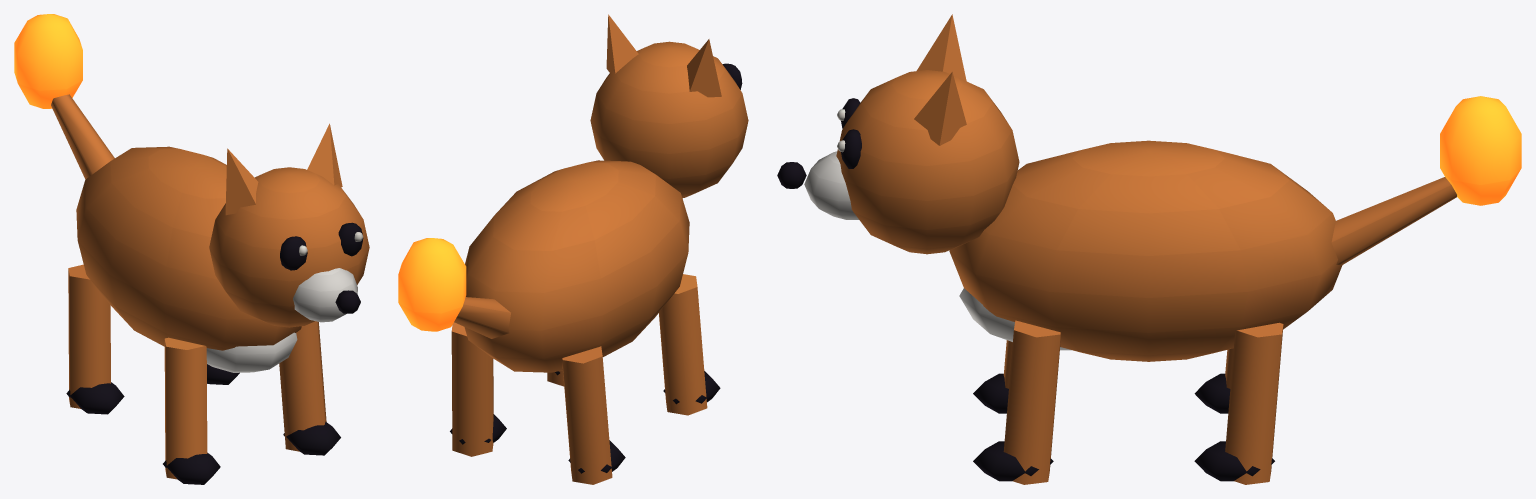
The model's file is monster_ember_fox.glb.
The picture shows the model from 3 angles, left to right: view 1: azimuth 30°, elevation 25°; view 2: azimuth 150°, elevation 25°; view 3: azimuth 270°, elevation 25°; orthographic projection. The views are drawn at different scales.
Visible parts, largest first — view 1: body_t0_palette, legl_t0_palette, legr_t0_palette, tail_t0_fire, tail_t0_palette; view 2: body_t0_palette, legl_t0_palette, tail_t0_fire, legr_t0_palette, tail_t0_palette; view 3: body_t0_palette, legr_t0_palette, tail_t0_fire, tail_t0_palette, legl_t0_palette.
Boxes of the visible parts, x1,y1,x2,y2 form: body_t0_palette: (76, 123, 369, 372); legl_t0_palette: (66, 264, 220, 484); legr_t0_palette: (207, 321, 340, 455); tail_t0_fire: (14, 14, 82, 108); tail_t0_palette: (51, 94, 114, 179); body_t0_palette: (464, 14, 748, 372); legl_t0_palette: (562, 274, 720, 484); tail_t0_fire: (398, 238, 466, 331); legr_t0_palette: (450, 322, 564, 456); tail_t0_palette: (454, 297, 510, 338); body_t0_palette: (777, 14, 1342, 361); legr_t0_palette: (973, 320, 1283, 484); tail_t0_fire: (1440, 96, 1521, 205); tail_t0_palette: (1331, 177, 1456, 264); legl_t0_palette: (973, 340, 1233, 413).
Bounding box in the file's own units: 0.18 × 0.3603 × 0.6053.
